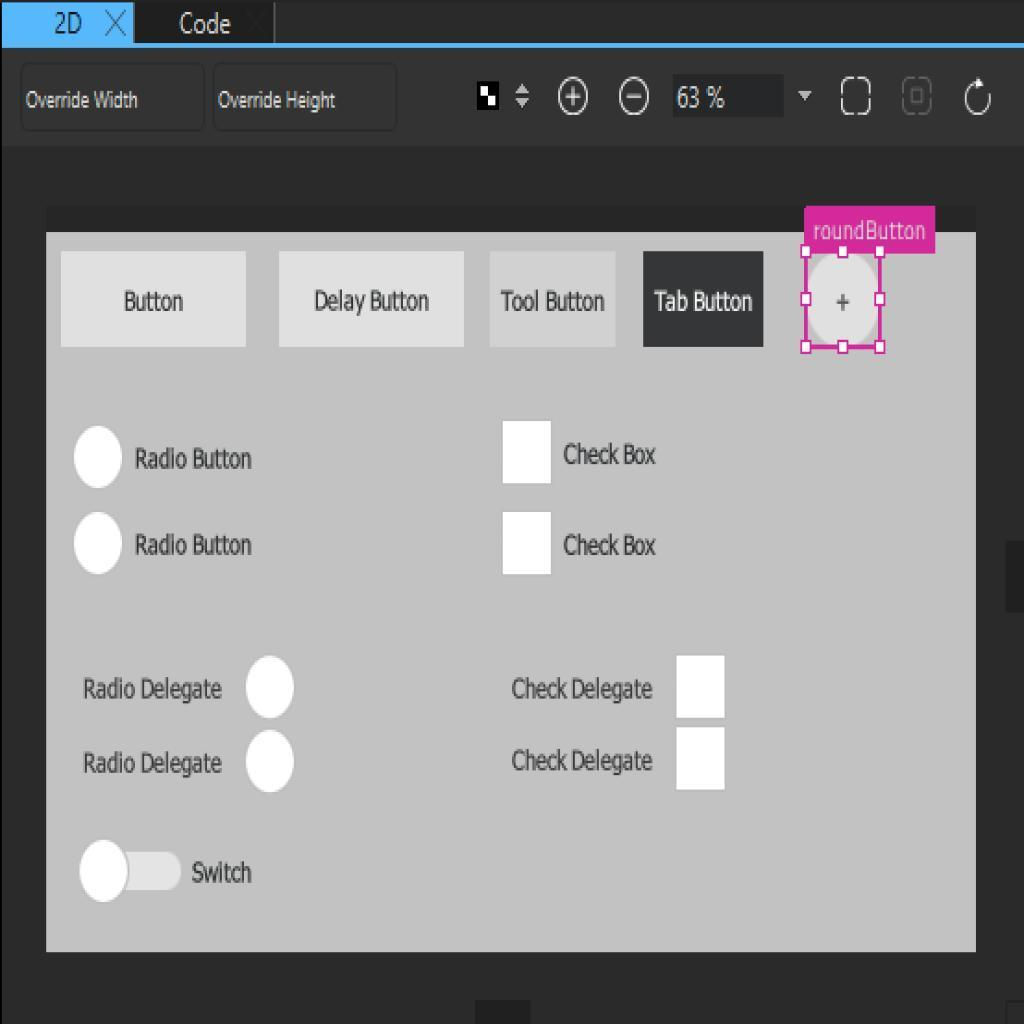button: (279, 251, 466, 347), (61, 252, 246, 346), (491, 251, 616, 346), (645, 252, 767, 347)
checkbox: (80, 840, 185, 906), (675, 728, 726, 792), (501, 513, 552, 576), (503, 421, 553, 484), (677, 657, 725, 721)
label: (83, 746, 227, 783), (83, 673, 223, 709), (512, 674, 657, 706), (137, 444, 258, 480), (509, 746, 654, 776), (137, 531, 258, 565), (559, 530, 662, 561), (564, 441, 660, 471), (192, 860, 249, 888)
radio: (71, 423, 122, 493), (73, 509, 126, 576), (246, 655, 297, 722), (245, 731, 297, 795)
